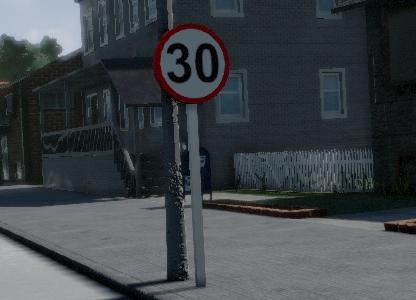Speed_30: (260, 0, 355, 93)
